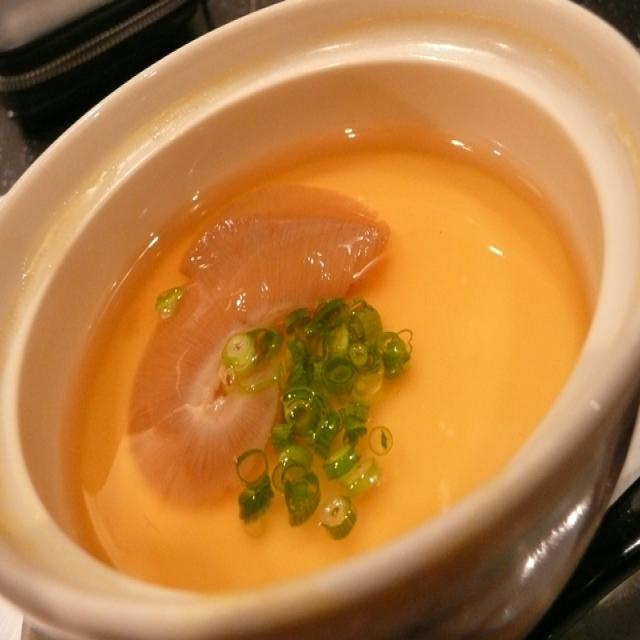鸡蛋料理: (0, 0, 625, 640)
